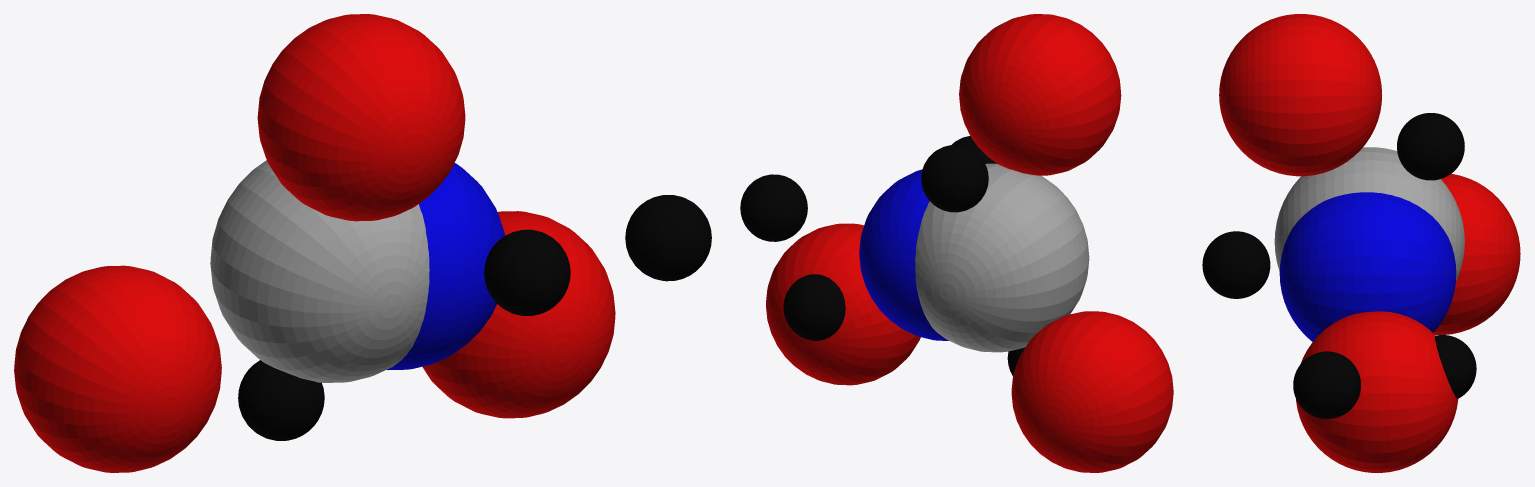
Rendered from Ammonium Carbonate.glb.
3 views of the same model, side by side, from view 1: azimuth 30°, elevation 25°; view 2: azimuth 150°, elevation 25°; view 3: azimuth 270°, elevation 25° (orthographic). The views are drawn at different scales.
Visible parts, largest first — view 1: world; view 2: world; view 3: world.
Boxes of the visible parts, bbox=[...] form: world: bbox=[14, 14, 711, 472]; world: bbox=[740, 14, 1173, 472]; world: bbox=[1202, 14, 1520, 472].
Size of the model in its own units: 4.04 by 2.98 by 2.34.
